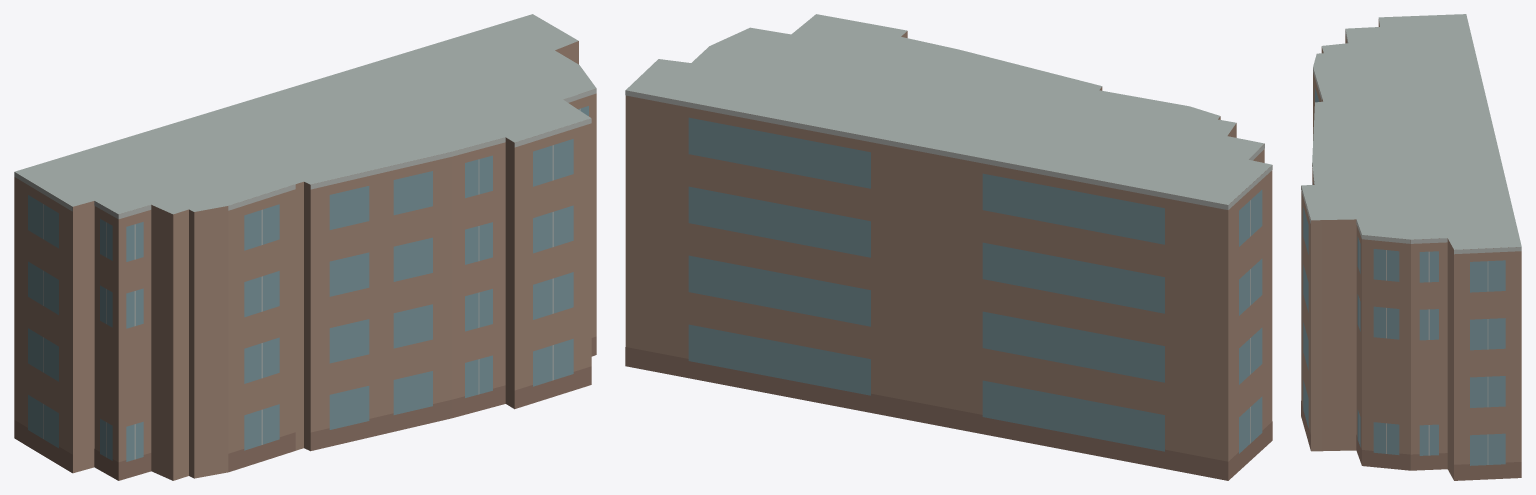
File: survey-upis-32690129.glb
3 views of the same model, side by side, from view 1: azimuth 30°, elevation 25°; view 2: azimuth 150°, elevation 25°; view 3: azimuth 270°, elevation 25° (orthographic). The views are drawn at different scales.
Parts seen in each view (by area): view 1: survey-upis-32690129.tmp; view 2: survey-upis-32690129.tmp; view 3: survey-upis-32690129.tmp.
Part boxes in pixels (x1,y1,x2,y2): survey-upis-32690129.tmp: [14, 14, 596, 480]; survey-upis-32690129.tmp: [625, 14, 1272, 480]; survey-upis-32690129.tmp: [1301, 14, 1521, 480].
Bounding box in the file's own units: 28.47 × 13 × 11.26.
